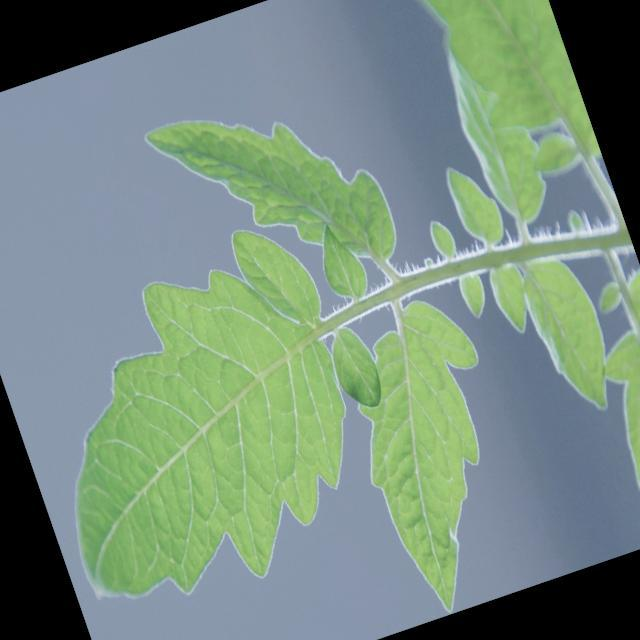Tomato healthy leaf: (0, 208, 399, 632), (315, 284, 555, 626), (142, 58, 406, 322), (397, 0, 601, 197), (512, 238, 628, 422), (566, 264, 640, 543)
